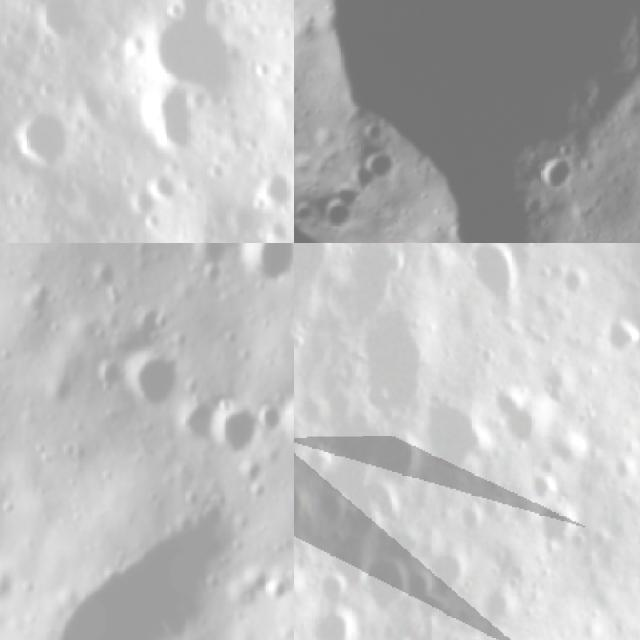crater: (294, 0, 640, 243), (53, 498, 252, 640), (131, 0, 265, 102), (352, 310, 439, 423), (116, 73, 217, 157), (413, 408, 499, 485), (1, 96, 83, 173), (345, 243, 403, 331), (487, 378, 558, 446), (198, 401, 262, 474), (528, 139, 594, 205), (118, 344, 187, 406), (465, 243, 525, 314), (368, 435, 433, 497), (346, 136, 406, 194), (235, 243, 294, 296), (361, 554, 410, 616), (426, 545, 474, 603), (166, 395, 214, 452), (294, 243, 337, 305), (538, 504, 586, 557), (310, 562, 356, 611), (248, 160, 294, 208), (556, 258, 598, 310), (140, 163, 187, 209), (303, 606, 365, 640), (119, 174, 162, 218), (519, 467, 562, 511), (599, 313, 640, 359), (310, 482, 345, 534), (190, 243, 229, 285), (165, 0, 225, 20), (278, 386, 294, 453), (294, 480, 313, 532), (94, 226, 138, 243), (0, 232, 36, 243), (617, 236, 640, 243)
